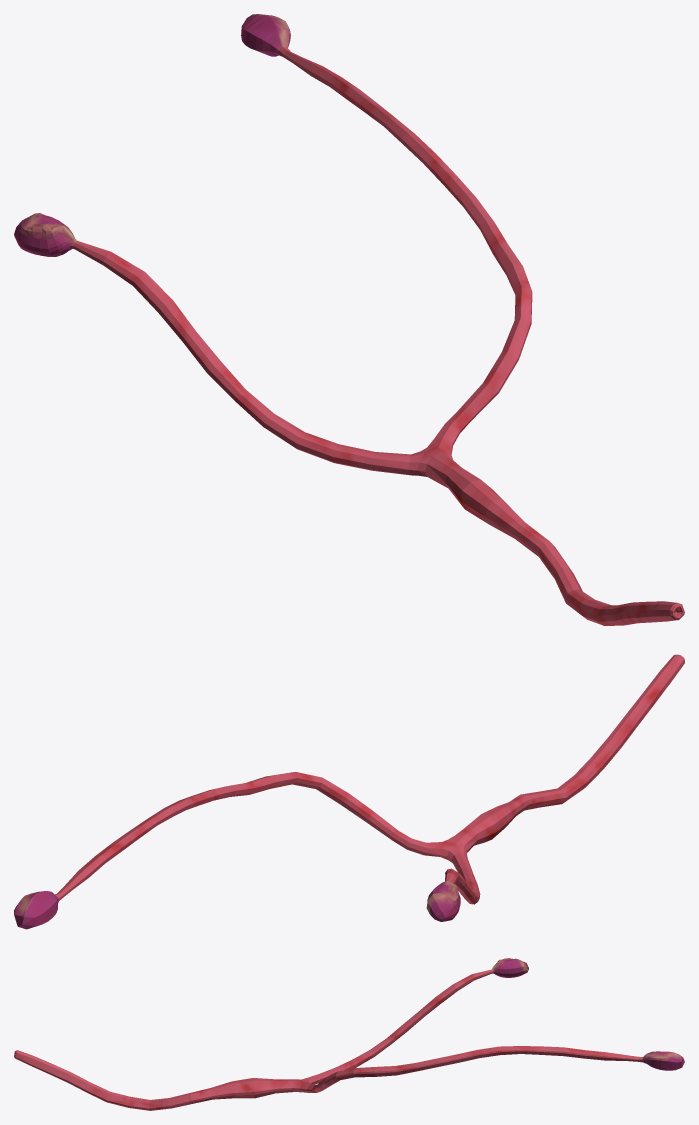
The model's file is uterus_ovaries_LP.glb.
3 renders of one model, top to bottom at view 1: azimuth 30°, elevation 25°; view 2: azimuth 150°, elevation 25°; view 3: azimuth 270°, elevation 25°, orthographic. The views are drawn at different scales.
Parts seen in each view (by area): view 1: uterus_ovaries_LP; view 2: uterus_ovaries_LP; view 3: uterus_ovaries_LP.
Boxes of the visible parts, box(x1,y1,x2,y2) form: uterus_ovaries_LP: box(14, 14, 684, 625); uterus_ovaries_LP: box(14, 654, 684, 929); uterus_ovaries_LP: box(14, 958, 684, 1110).
Size of the model in its own units: 0.00158 by 0.000741 by 0.00425.
Materials: 1 (1 with a texture image).
